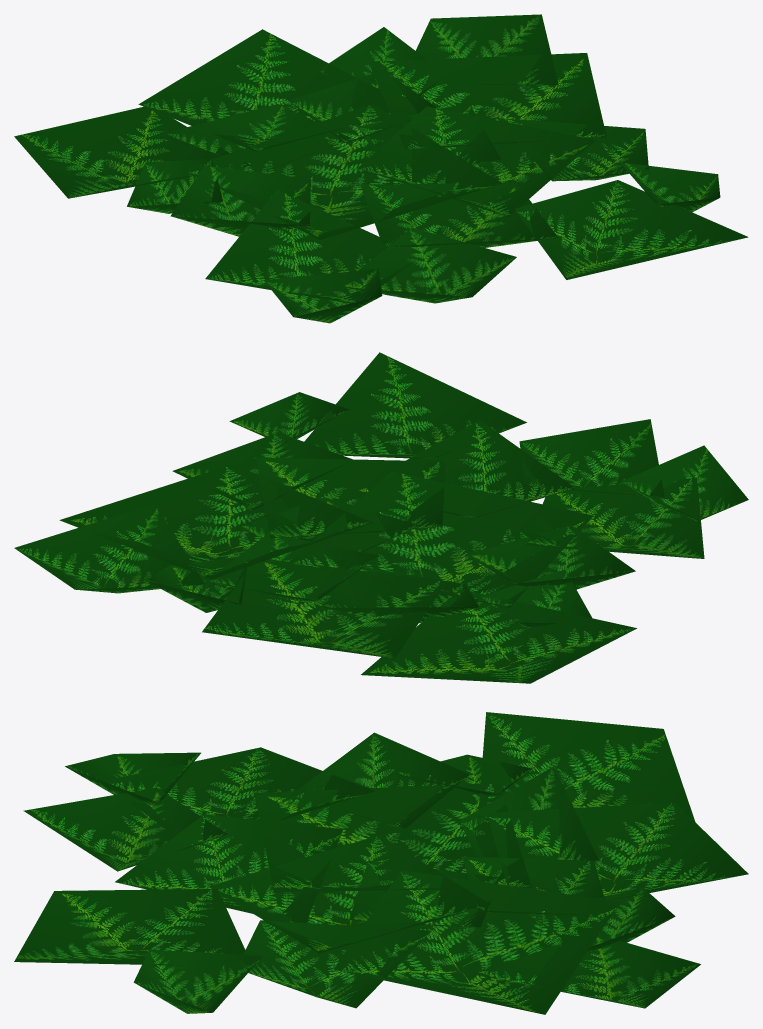
The model's file is grass1_32.glb.
3 renders of one model, top to bottom at view 1: azimuth 30°, elevation 25°; view 2: azimuth 150°, elevation 25°; view 3: azimuth 270°, elevation 25°, orthographic. The views are drawn at different scales.
Visible parts, largest first — view 1: grass1_32; view 2: grass1_32; view 3: grass1_32.
Part boxes in pixels (x1,y1,x2,y2): grass1_32: (14,14,748,323); grass1_32: (14,352,748,683); grass1_32: (14,712,748,1014).
Bounding box in the file's own units: 5.65 × 0.483 × 5.94.
Materials: 1 (1 with a texture image).
